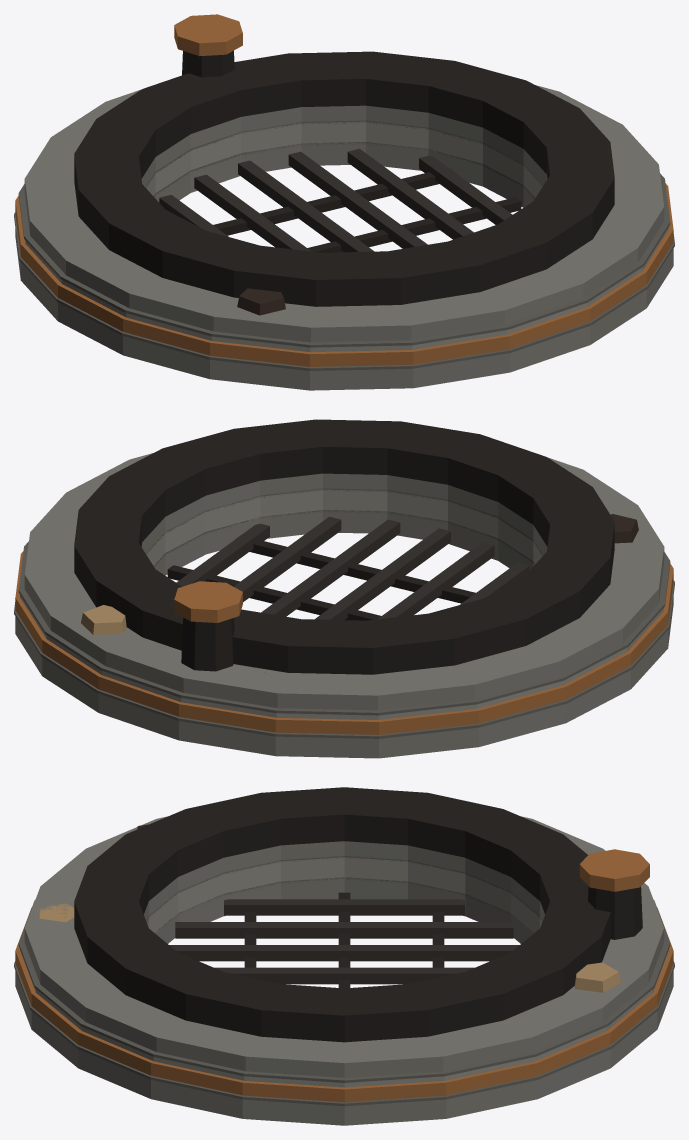
Rendered from geyser_vent.glb.
3 views of the same model, one above another, from view 1: azimuth 30°, elevation 25°; view 2: azimuth 150°, elevation 25°; view 3: azimuth 270°, elevation 25° (orthographic).
Parts seen in each view (by area): view 1: geyser_vent.001; view 2: geyser_vent.001; view 3: geyser_vent.001.
Boxes of the visible parts, x1,y1,x2,y2 form: geyser_vent.001: (14,14,674,390); geyser_vent.001: (14,419,674,758); geyser_vent.001: (14,787,674,1125).
Size of the model in its own units: 5.62 by 1.15 by 5.62.
